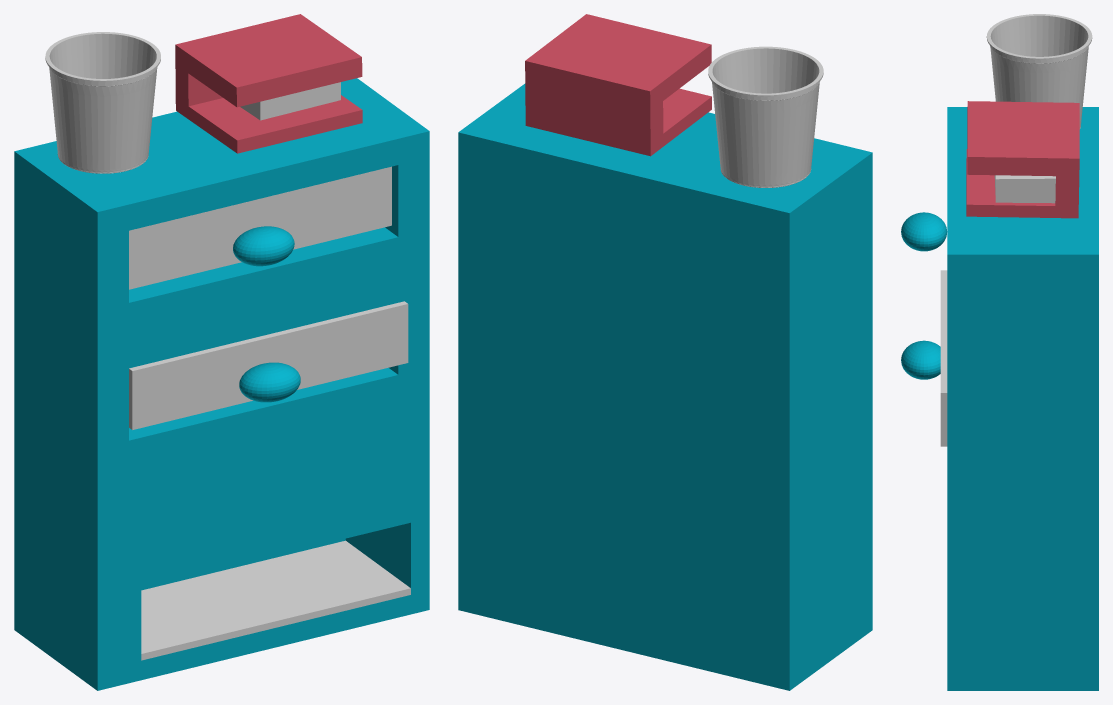
Rendered from Super Robo.glb.
3 views of the same model, side by side, from view 1: azimuth 30°, elevation 25°; view 2: azimuth 150°, elevation 25°; view 3: azimuth 270°, elevation 25° (orthographic). The views are drawn at different scales.
Visible parts, largest first — view 1: Mesh_Mesh_head_geo.001_lambert2SG.001; view 2: Mesh_Mesh_head_geo.001_lambert2SG.001; view 3: Mesh_Mesh_head_geo.001_lambert2SG.001.
Part boxes in pixels (x1,y1,x2,y2): Mesh_Mesh_head_geo.001_lambert2SG.001: [14, 14, 429, 690]; Mesh_Mesh_head_geo.001_lambert2SG.001: [458, 14, 872, 690]; Mesh_Mesh_head_geo.001_lambert2SG.001: [901, 14, 1098, 690].
Size of the model in its own units: 53 by 89 by 30.
